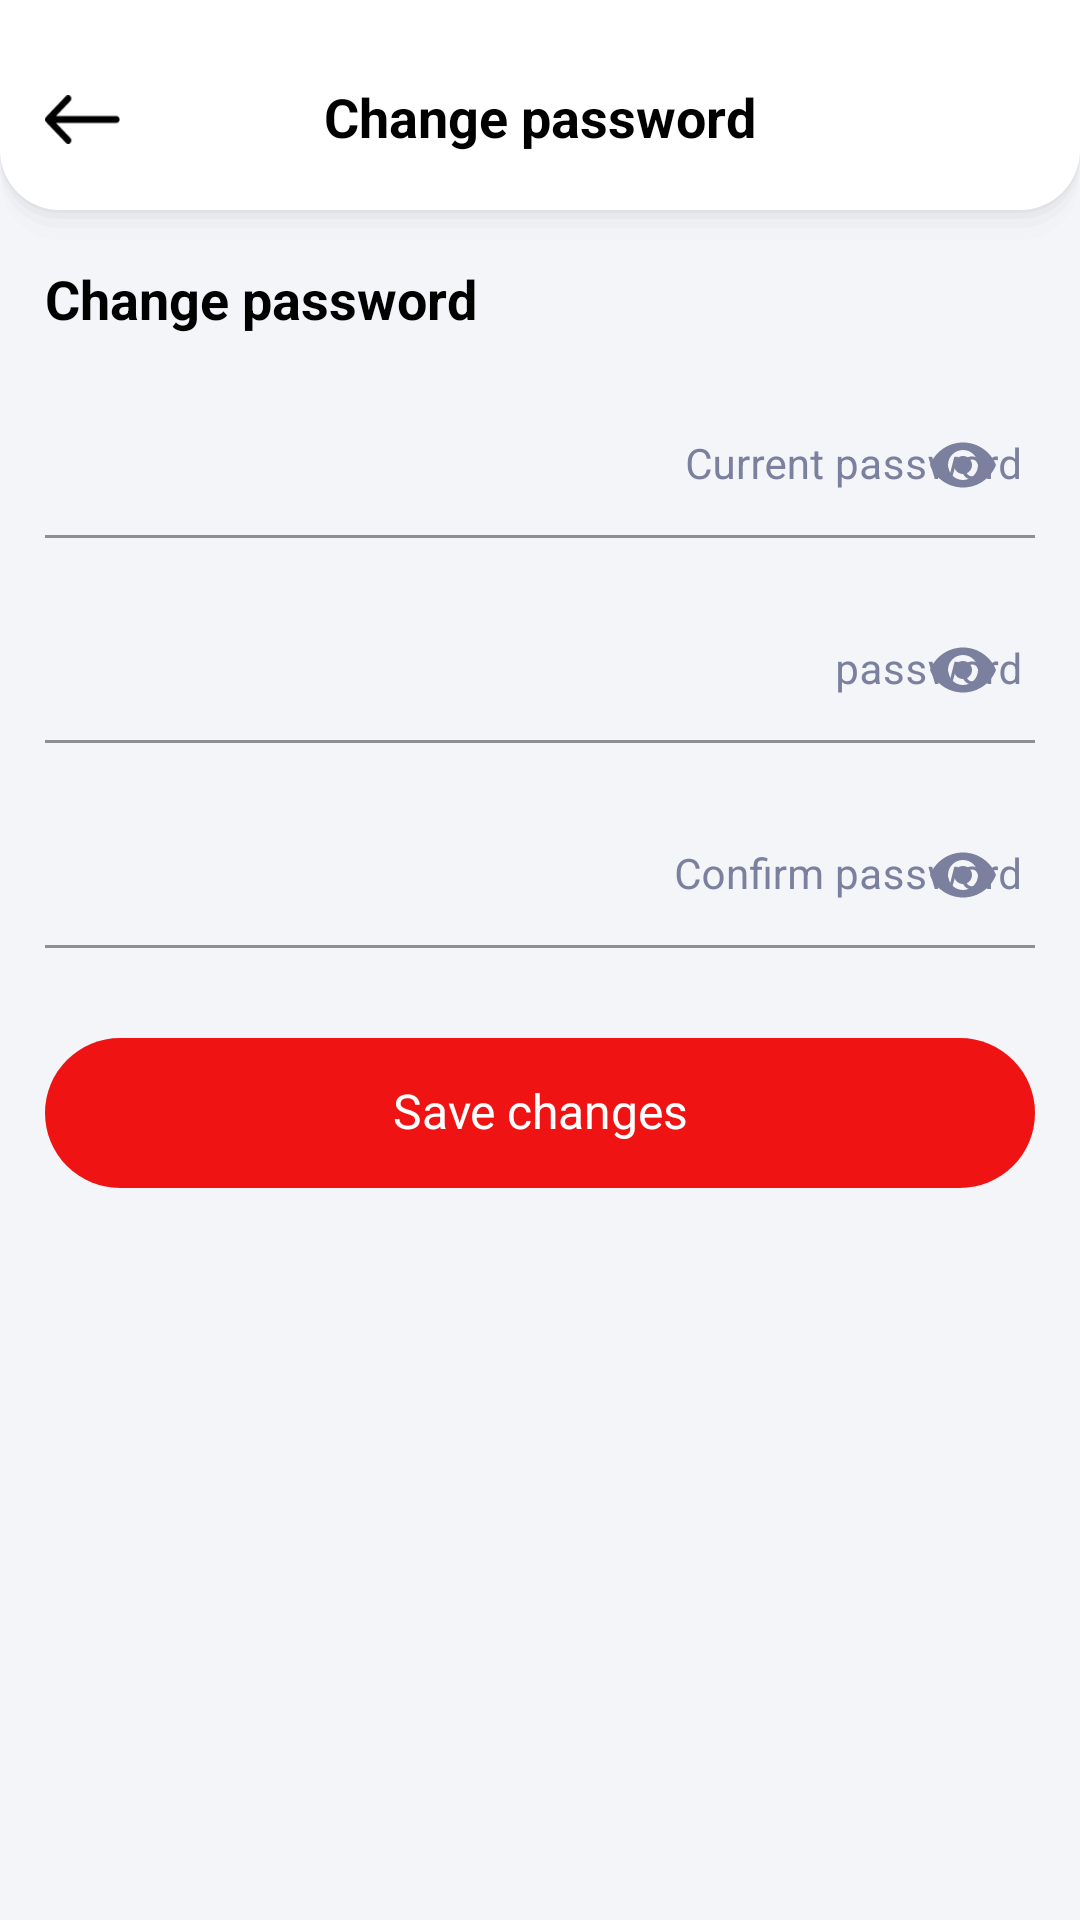

Locate icon controls on the screen. Image size 1080 × 1920, boxes as (x1, y1, x2, y2).
back: (45, 95, 120, 144)
